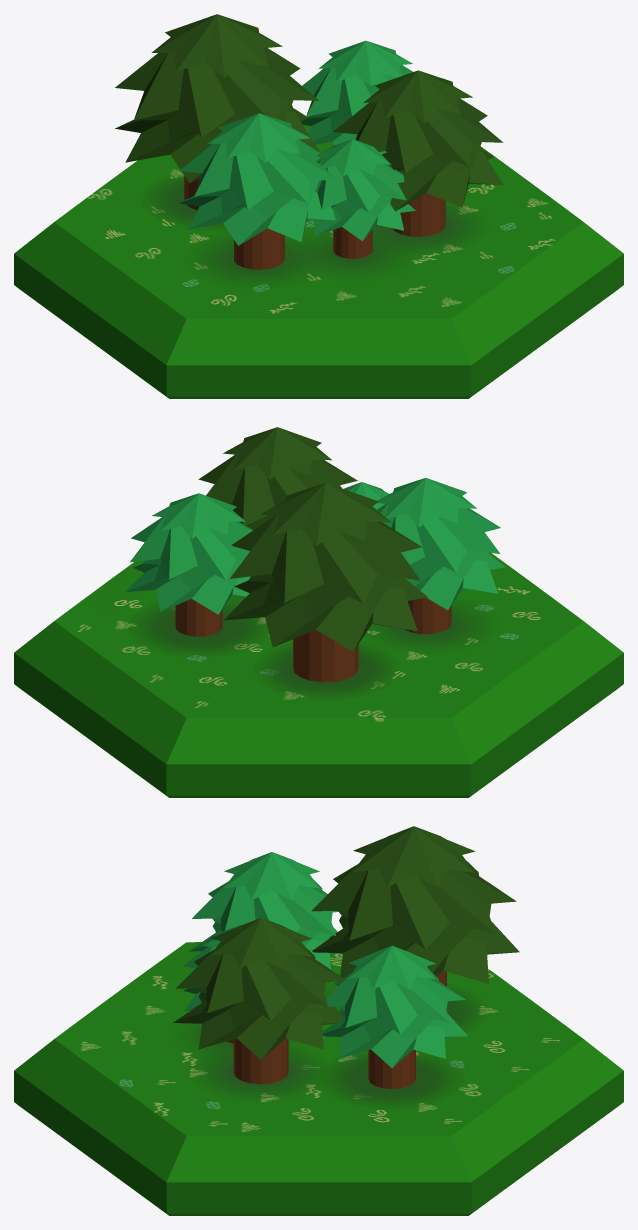
The model's file is trees.glb.
The picture shows the model from 3 angles, top to bottom: view 1: azimuth 30°, elevation 25°; view 2: azimuth 150°, elevation 25°; view 3: azimuth 270°, elevation 25°; orthographic projection.
Visible parts, largest first — view 1: Cylinder; view 2: Cylinder; view 3: Cylinder.
Boxes of the visible parts, x1=… form: Cylinder: x1=14, y1=14, x2=623, y2=398; Cylinder: x1=14, y1=427, x2=623, y2=797; Cylinder: x1=14, y1=826, x2=623, y2=1215.
Bounding box in the file's own units: 1.73 × 0.9173 × 2.
Materials: 1 (1 with a texture image).
